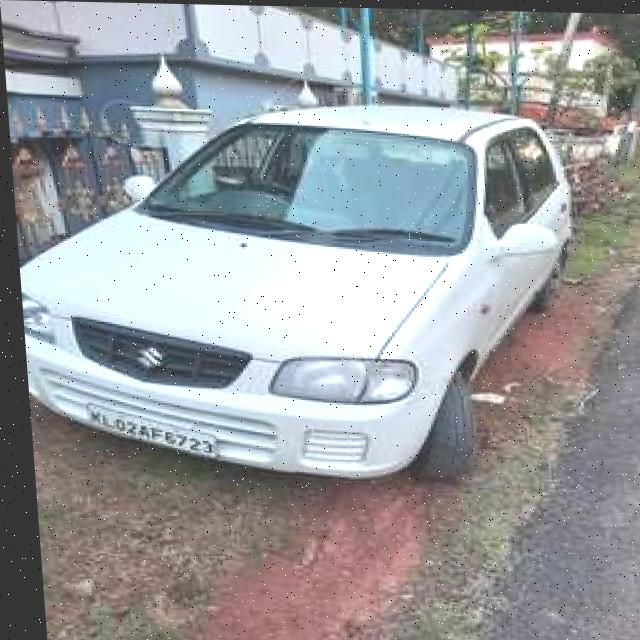plate: (79, 404, 212, 456)
